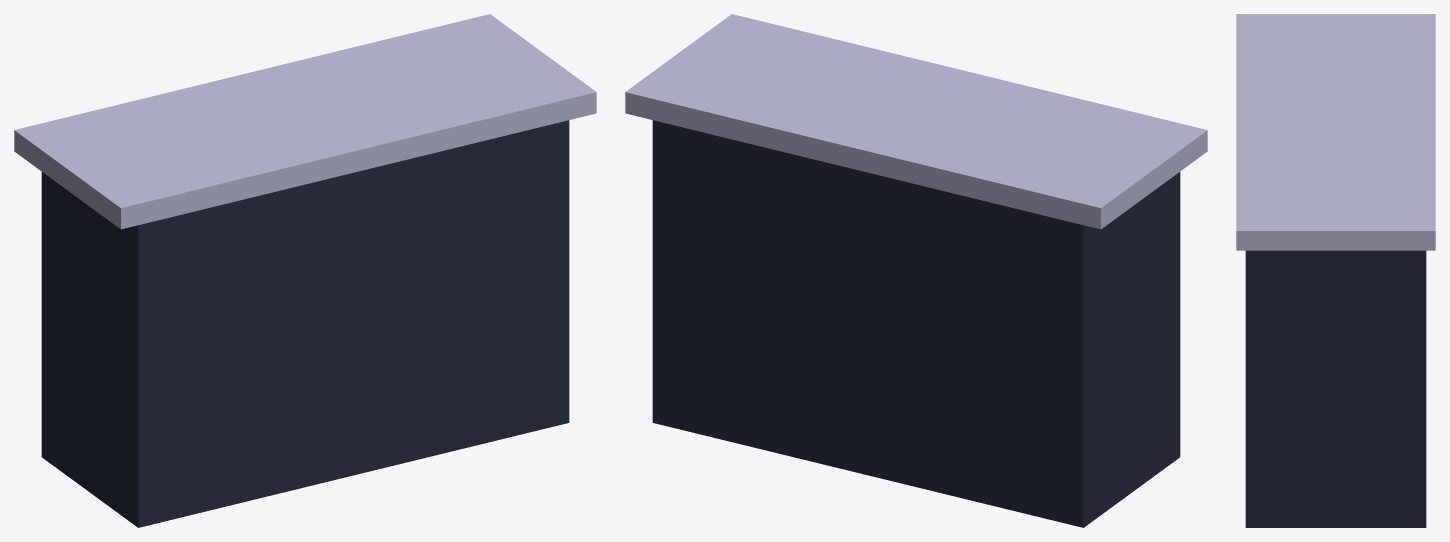
File: muro.fbx
3 renders of one model, left to right at view 1: azimuth 30°, elevation 25°; view 2: azimuth 150°, elevation 25°; view 3: azimuth 270°, elevation 25°, orthographic. The views are drawn at different scales.
Visible parts, largest first — view 1: Cube; view 2: Cube; view 3: Cube.
Boxes of the visible parts, <box> form: Cube: <box>14,14,596,527</box>; Cube: <box>625,14,1207,527</box>; Cube: <box>1236,14,1435,527</box>.
Size of the model in its own units: 411 by 271 by 160.
